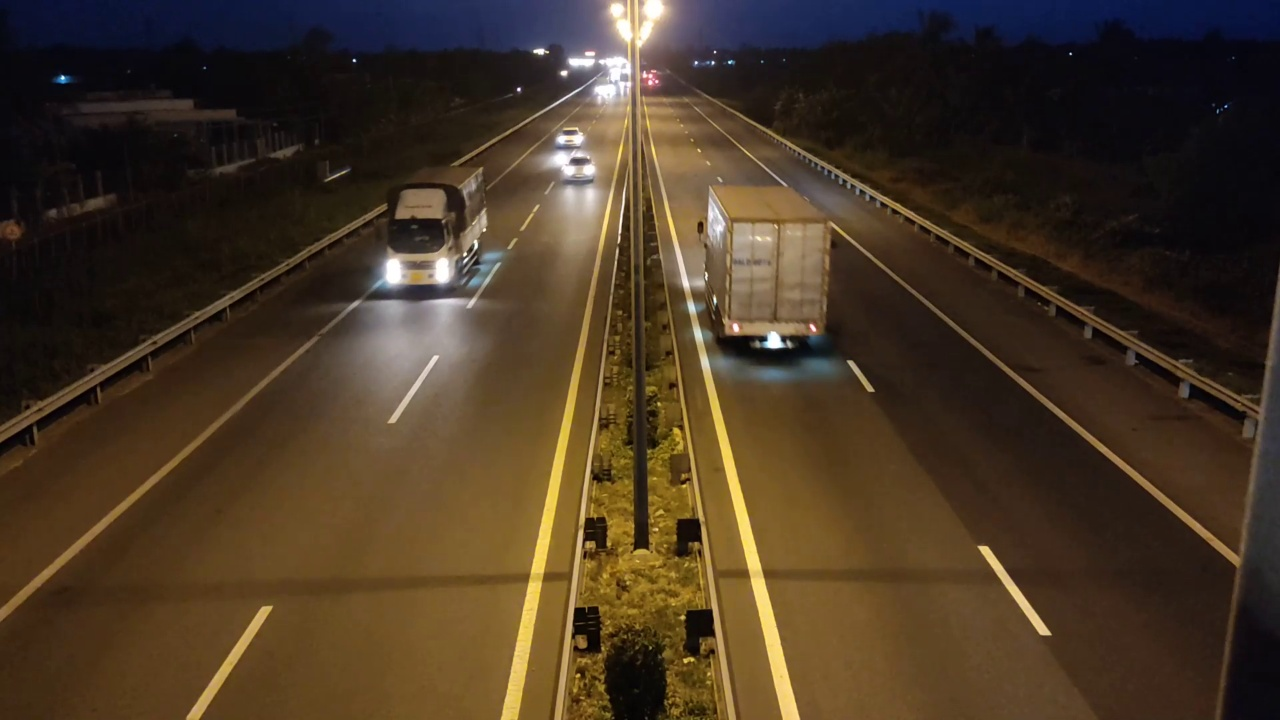car: (561, 151, 597, 184), (554, 127, 586, 149)
truck: (699, 184, 834, 354), (378, 154, 486, 303)
